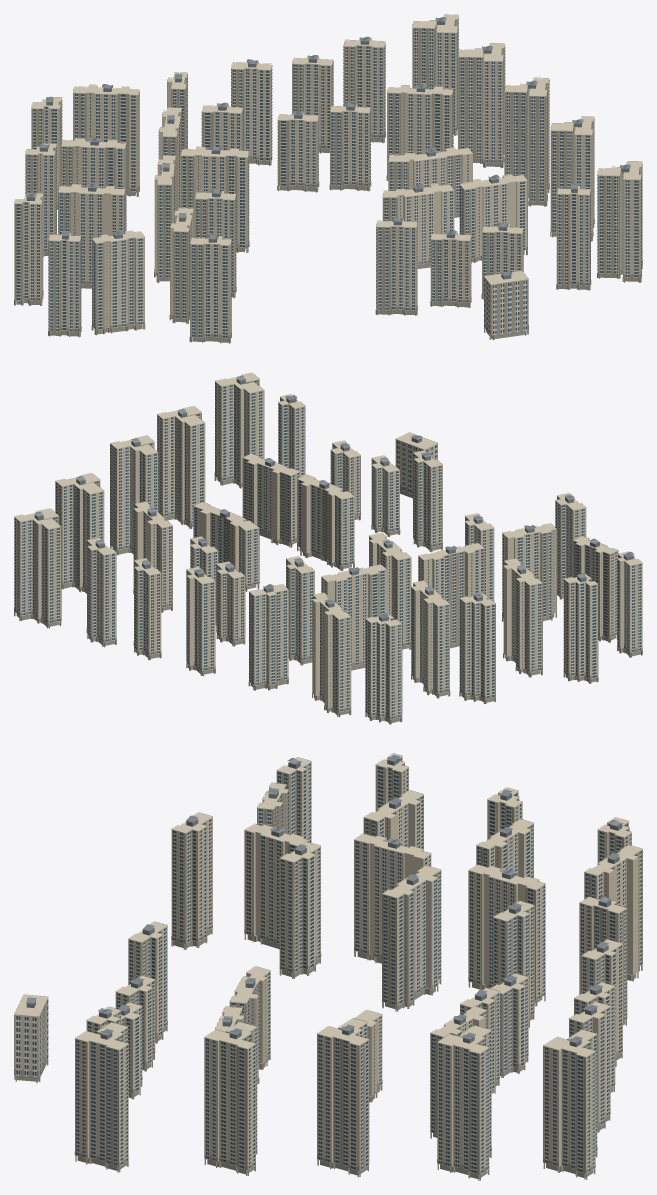
Rendered from representative-a13822001.glb.
3 views of the same model, one above another, from view 1: azimuth 30°, elevation 25°; view 2: azimuth 150°, elevation 25°; view 3: azimuth 270°, elevation 25° (orthographic). The views are drawn at different scales.
Parts seen in each view (by area): view 1: A13822001_trim, A13822001_wall, A13822001_glass, A13822001_accent, A13822001_base, A13822001_roof; view 2: A13822001_wall, A13822001_trim, A13822001_glass, A13822001_accent, A13822001_base, A13822001_roof; view 3: A13822001_wall, A13822001_trim, A13822001_glass, A13822001_accent, A13822001_base, A13822001_roof.
Part boxes in pixels (x1,y1,x2,y2): A13822001_trim: (14, 14, 642, 338); A13822001_wall: (14, 14, 642, 336); A13822001_glass: (14, 19, 641, 337); A13822001_accent: (14, 17, 642, 337); A13822001_base: (14, 123, 642, 343); A13822001_roof: (25, 17, 630, 279); A13822001_wall: (14, 373, 642, 716); A13822001_trim: (14, 372, 642, 719); A13822001_glass: (14, 380, 641, 718); A13822001_accent: (32, 379, 621, 716); A13822001_base: (14, 472, 642, 724); A13822001_roof: (34, 375, 634, 621); A13822001_wall: (14, 753, 642, 1174); A13822001_trim: (14, 753, 642, 1174); A13822001_glass: (16, 758, 641, 1173); A13822001_accent: (14, 763, 642, 1173); A13822001_base: (14, 924, 642, 1180); A13822001_roof: (26, 754, 623, 1046).
Bounding box in the file's own units: 450 × 93.15 × 386.
